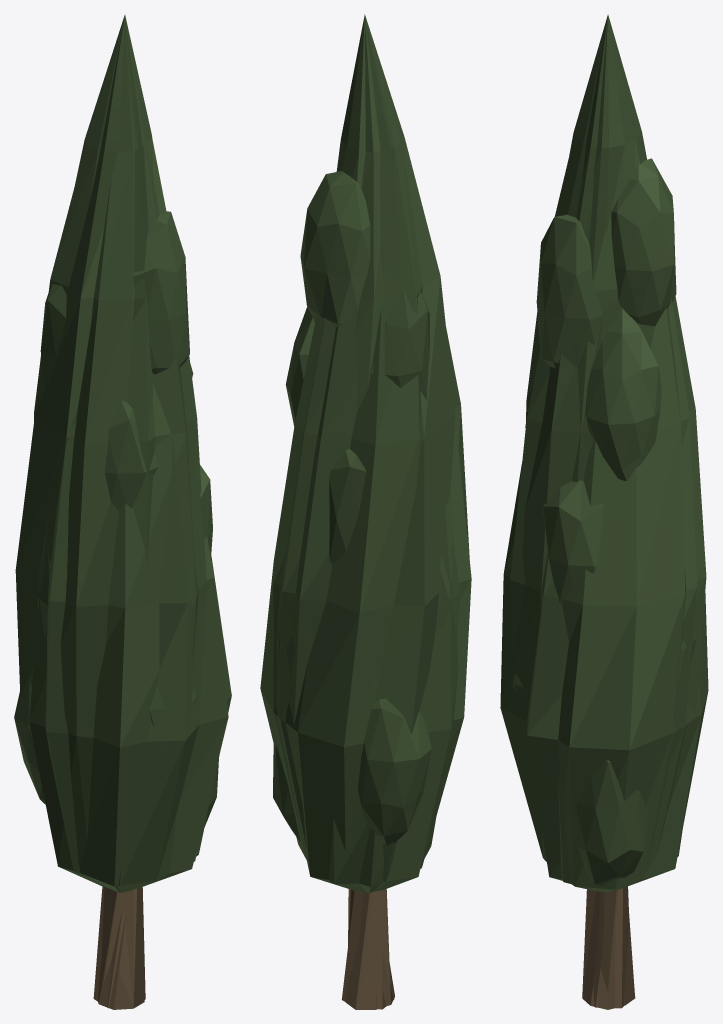
File: cypress.glb
3 views of the same model, side by side, from view 1: azimuth 30°, elevation 25°; view 2: azimuth 150°, elevation 25°; view 3: azimuth 270°, elevation 25° (orthographic).
Parts seen in each view (by area): view 1: cypress_detail, cypress_medium, cypress_far; view 2: cypress_detail, cypress_medium, cypress_far; view 3: cypress_detail, cypress_medium, cypress_far.
Part boxes in pixels (bbox=[...]): cypress_detail: bbox=[14, 16, 231, 1009]; cypress_medium: bbox=[15, 15, 198, 1008]; cypress_far: bbox=[45, 15, 228, 1006]; cypress_detail: bbox=[260, 14, 469, 1009]; cypress_medium: bbox=[276, 17, 455, 1009]; cypress_far: bbox=[289, 16, 471, 1009]; cypress_detail: bbox=[500, 14, 708, 1009]; cypress_medium: bbox=[510, 16, 697, 1008]; cypress_far: bbox=[525, 16, 706, 998].
Size of the model in its own units: 1.57 by 8 by 1.53.
